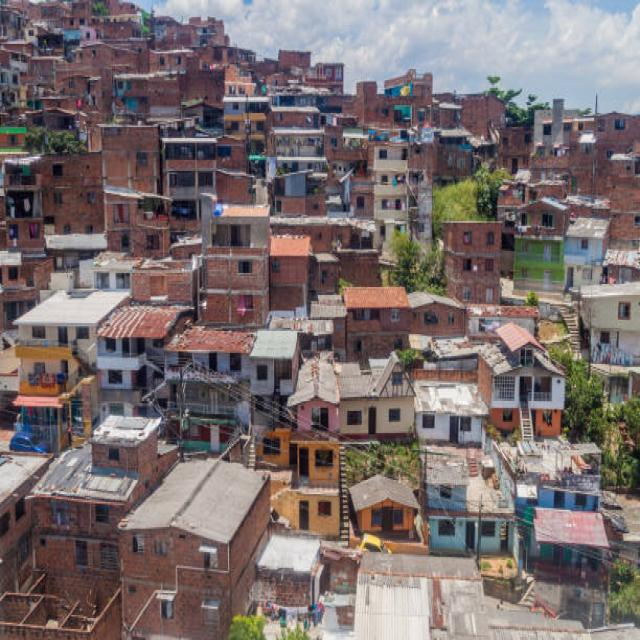Fachada: (32, 416, 176, 635), (119, 458, 269, 637), (14, 290, 129, 450), (102, 127, 186, 256), (99, 304, 190, 414), (479, 323, 564, 436), (517, 485, 609, 588), (420, 452, 512, 554), (257, 427, 339, 538), (202, 195, 269, 325), (5, 152, 102, 234), (409, 129, 472, 237), (337, 353, 414, 438), (56, 39, 146, 111), (567, 113, 639, 202), (336, 287, 409, 359), (580, 282, 639, 364), (162, 138, 215, 227), (167, 326, 254, 378), (444, 223, 500, 303), (414, 383, 487, 442), (349, 475, 418, 535), (373, 140, 408, 251), (288, 356, 339, 430), (241, 329, 297, 394), (267, 107, 325, 169), (565, 218, 608, 289), (270, 235, 310, 309), (515, 238, 563, 289), (409, 292, 464, 334), (516, 198, 566, 240), (150, 49, 198, 71)
